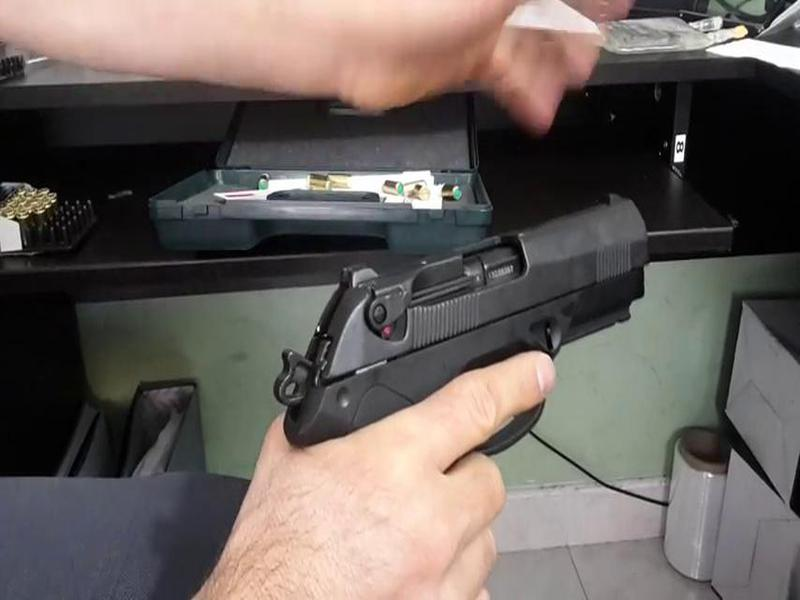Pistola: (265, 163, 656, 467)
